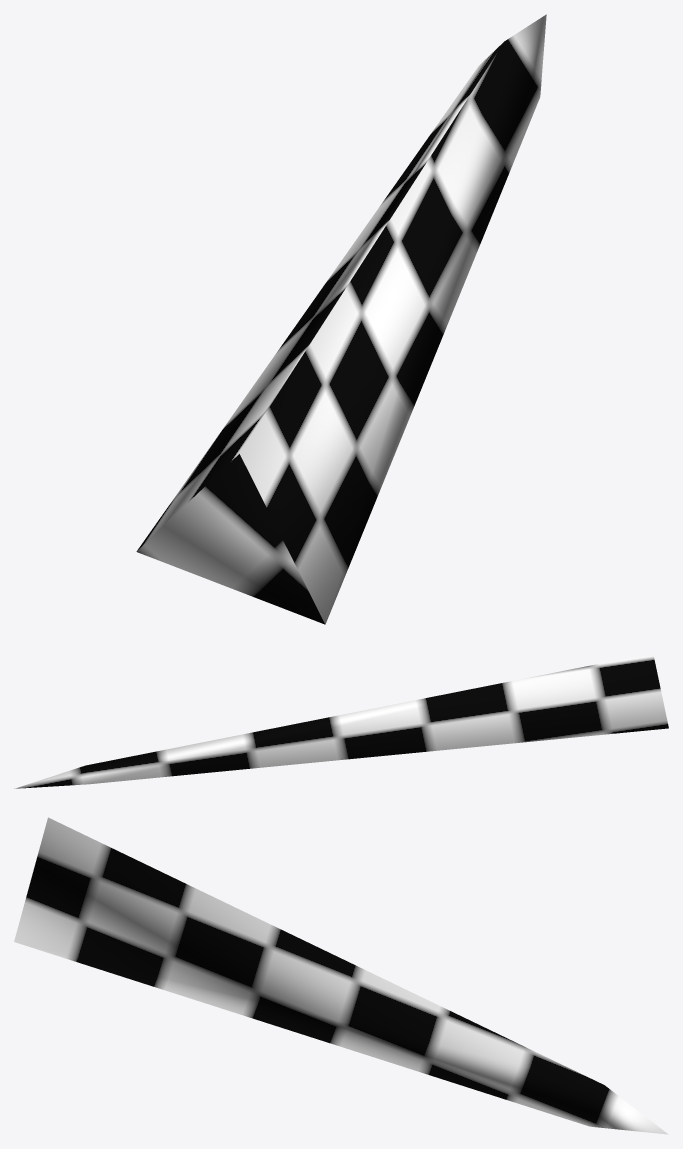
Rendered from initlitr22.dae.
3 views of the same model, one above another, from view 1: azimuth 30°, elevation 25°; view 2: azimuth 150°, elevation 25°; view 3: azimuth 270°, elevation 25° (orthographic). The views are drawn at different scales.
Visible parts, largest first — view 1: item; view 2: item; view 3: item.
Part boxes in pixels (left/top/right/bottom): item: left=136, top=14, right=546, bottom=624; item: left=14, top=653, right=668, bottom=788; item: left=14, top=817, right=668, bottom=1134.
Size of the model in its own units: 1.41 by 1.45 by 0.2601.
Materials: 1 (1 with a texture image).
